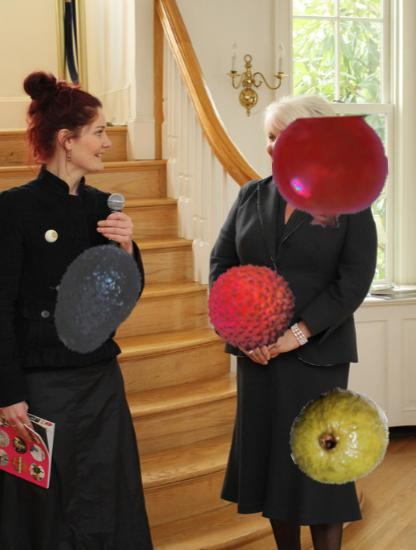Avocado: (36, 241, 151, 356)
Guava: (288, 386, 391, 489)
Lychee: (206, 261, 298, 353)
Redcurrant: (272, 114, 389, 231)
